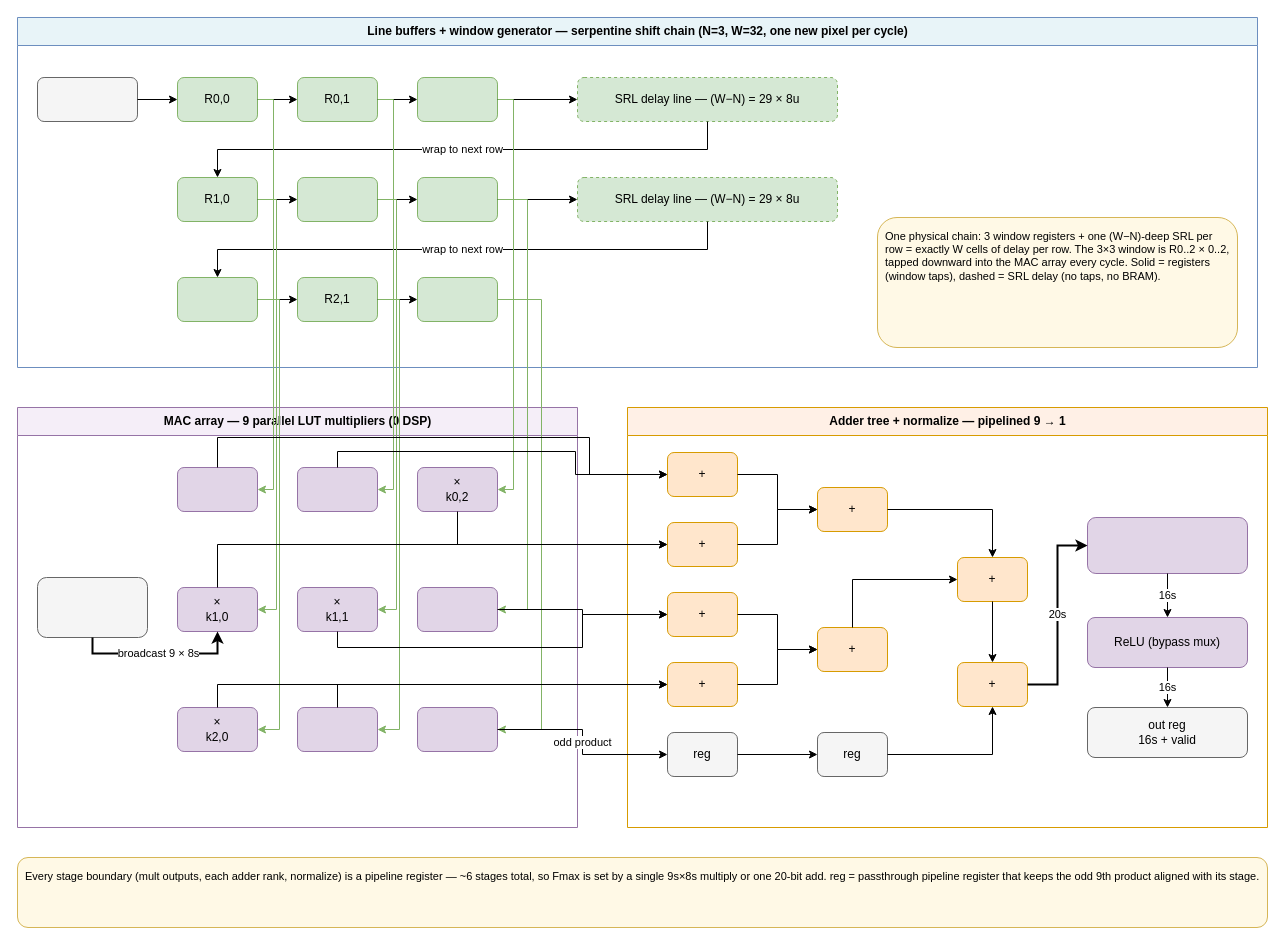
Image size: 1285x945. Some labels were removed from this diagram. The centre of each missing label's shape, as x and y in pixels:
"kernel regs 9 × 8s" belongs at point (92, 607).
"pixel in 8u" belongs at point (87, 99).
"R0,2" belongs at point (457, 99).
"R1,1" belongs at point (337, 199).
"R1,2" belongs at point (457, 199).
"R2,0" belongs at point (217, 299).
"R2,2" belongs at point (457, 299).
"round + saturate 20s → 16s" belongs at point (1167, 545).
"× k0,0" belongs at point (217, 489).
"× k0,1" belongs at point (337, 489).
"× k1,2" belongs at point (457, 609).
"× k2,1" belongs at point (337, 729).
"× k2,2" belongs at point (457, 729).
